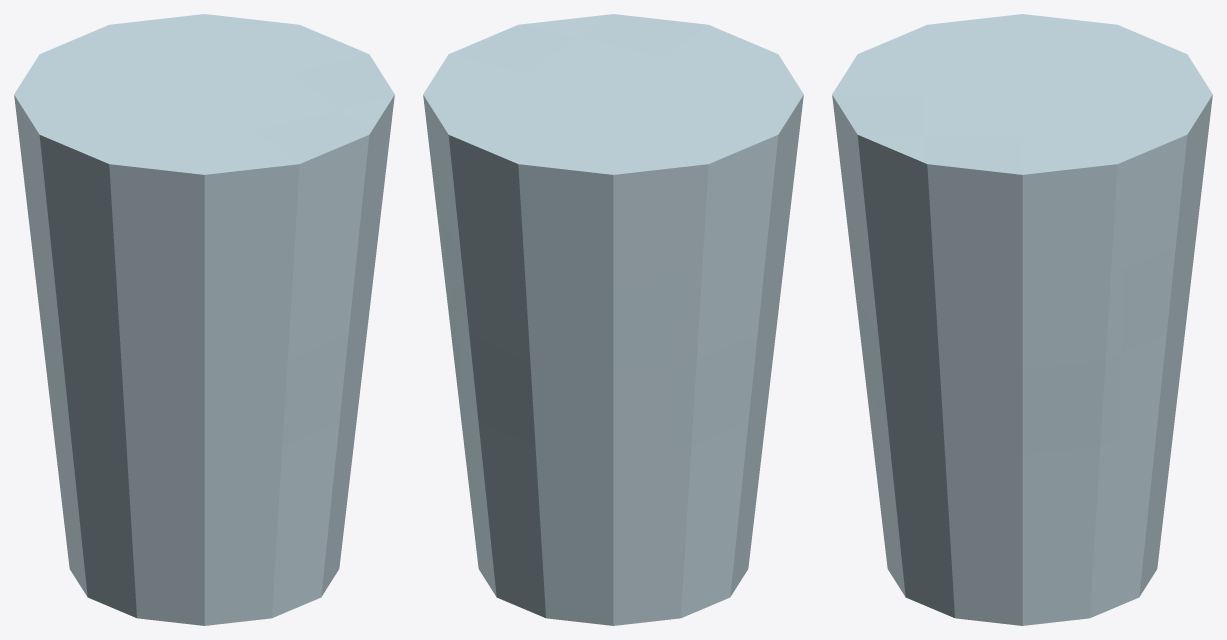
3 views of the same model, side by side, from view 1: azimuth 30°, elevation 25°; view 2: azimuth 150°, elevation 25°; view 3: azimuth 270°, elevation 25° (orthographic).
Parts seen in each view (by area): view 1: vodka; view 2: vodka; view 3: vodka.
Boxes of the visible parts, x1=… form: vodka: x1=14, y1=14, x2=394, y2=625; vodka: x1=423, y1=14, x2=803, y2=625; vodka: x1=832, y1=14, x2=1212, y2=625.
Bounding box in the file's own units: 0.048 × 0.066 × 0.048.
2 materials, 2 textured.
